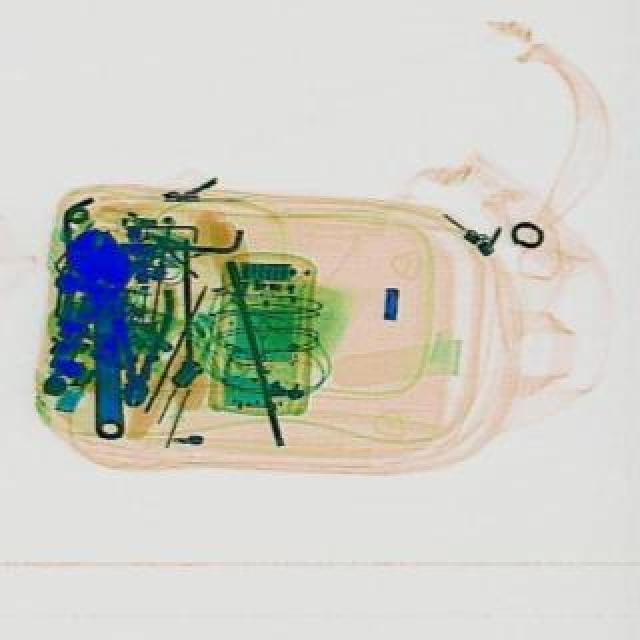scissors: (70, 228, 144, 440)
wrench: (108, 288, 176, 412)
